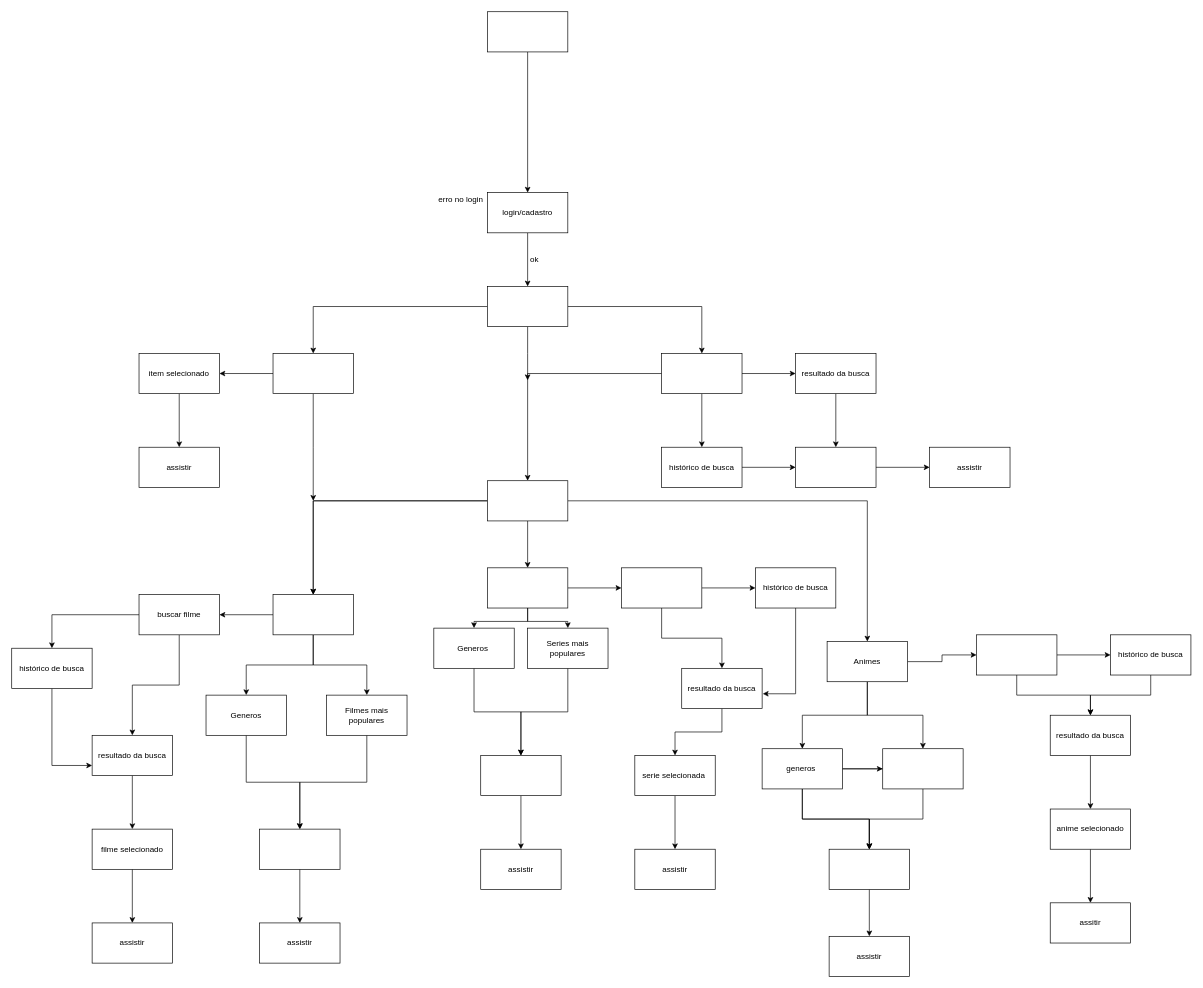
Image size: 1203x988. Some labels were removed from this diagram. The box of each missing label's shape, as (x1, y1, x2, y2) in pixels:
anime escolhida: (828, 849, 910, 889)
Animes mais populares: (882, 748, 963, 789)
buscar animes: (976, 634, 1057, 675)
buscar series: (621, 567, 702, 608)
buscas: (661, 353, 742, 394)
Continuar assisntindo: (272, 353, 353, 394)
filme escolhido: (259, 828, 340, 869)
Filmes: (272, 594, 353, 635)
HOME: (487, 11, 568, 52)
PRICIPAIS FILMES SERIES E ANIMES: (487, 480, 568, 521)
selecionado: (795, 447, 876, 487)
serie escolhida: (480, 755, 561, 796)
Series: (487, 567, 568, 608)
tela inicial: (487, 286, 568, 327)
